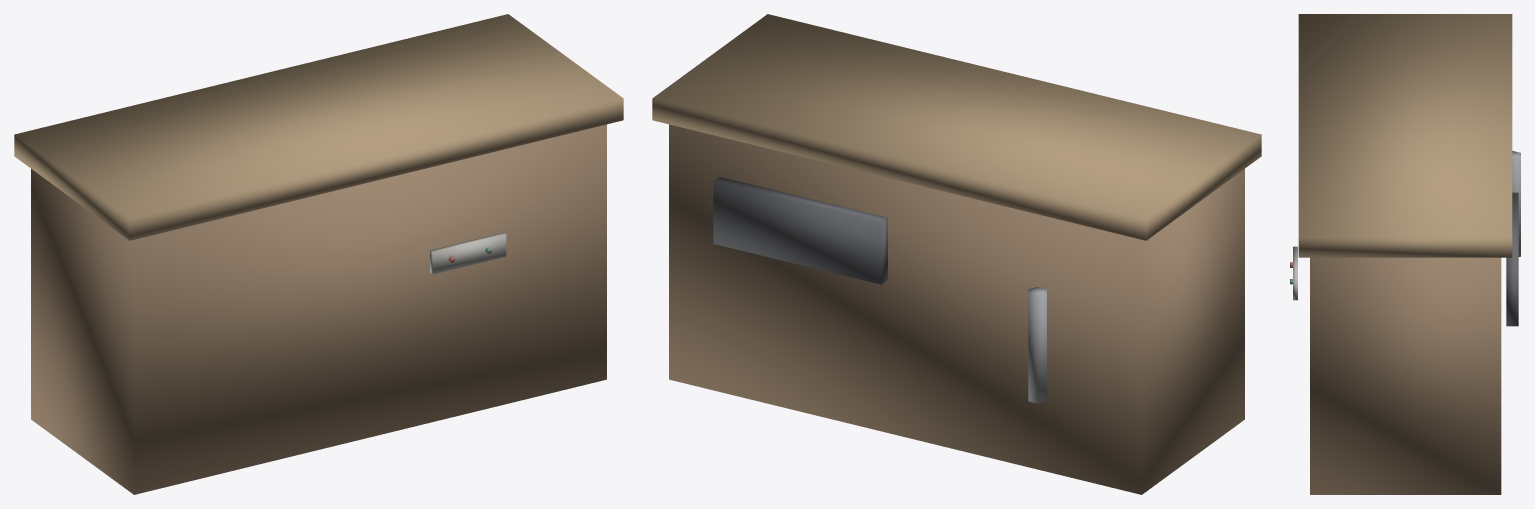
File: florist_wrapping_counter__service.glb
3 views of the same model, side by side, from view 1: azimuth 30°, elevation 25°; view 2: azimuth 150°, elevation 25°; view 3: azimuth 270°, elevation 25° (orthographic). The views are drawn at different scales.
Parts seen in each view (by area): view 1: world; view 2: world; view 3: world.
Part boxes in pixels (x1=…): world: x1=14, y1=14, x2=623, y2=494; world: x1=652, y1=14, x2=1261, y2=494; world: x1=1290, y1=14, x2=1520, y2=494.
Size of the model in its own units: 1.88 by 1.03 by 0.8213.
